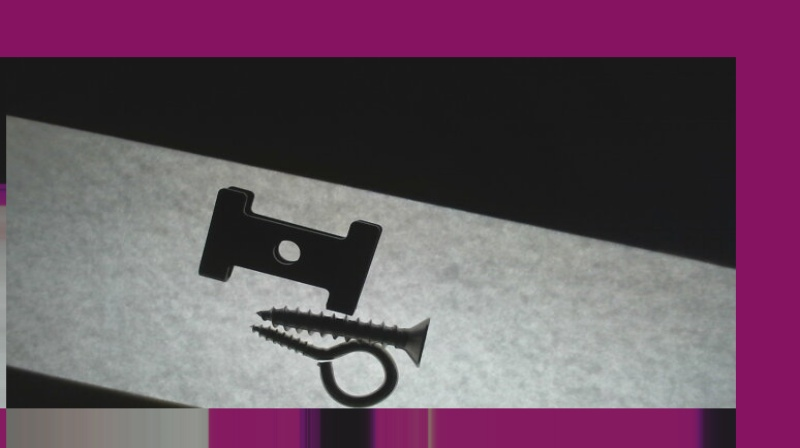O001: (246, 322, 402, 411)
O002: (196, 184, 385, 316)
S001: (255, 307, 437, 371)
